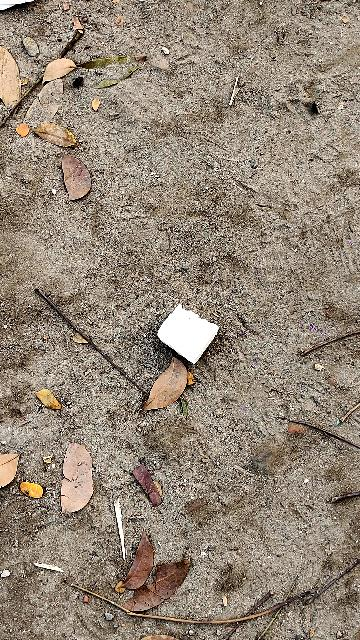cocksheet: (156, 295, 232, 377)
